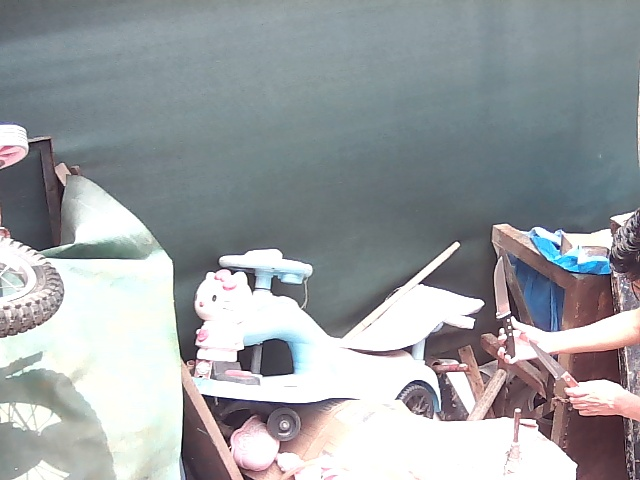cuchillo: (523, 334, 585, 393), (489, 253, 518, 341)
